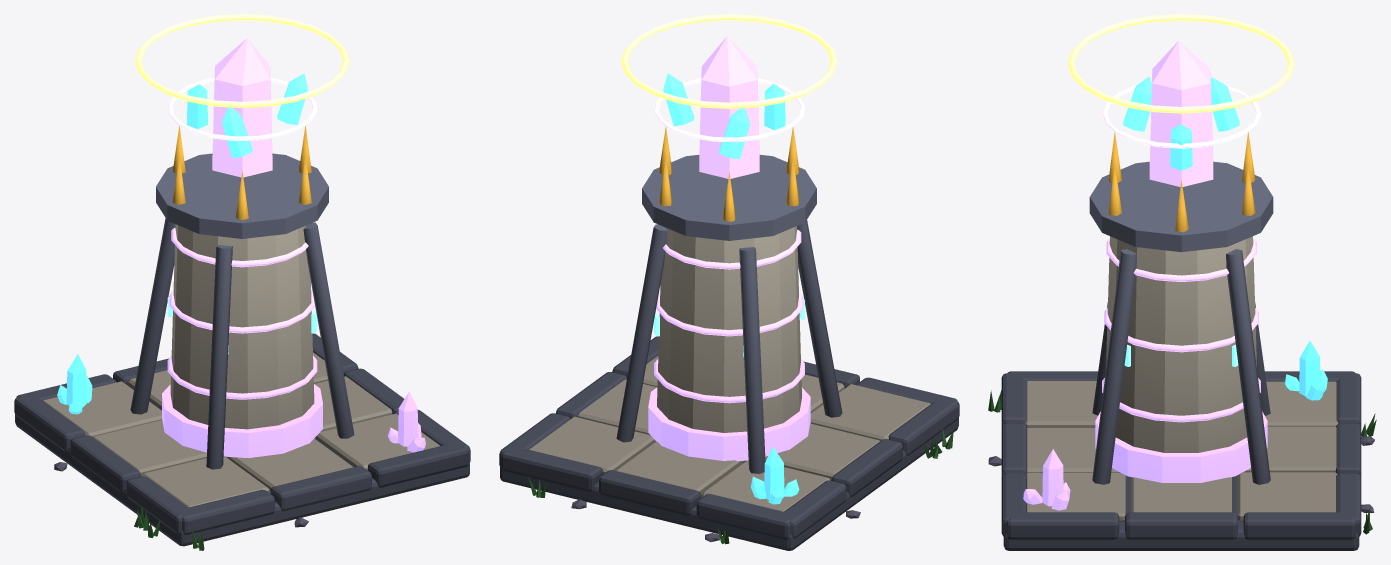
Rendered from crystal_tower.glb.
The picture shows the model from 3 angles, left to right: view 1: azimuth 30°, elevation 25°; view 2: azimuth 150°, elevation 25°; view 3: azimuth 270°, elevation 25°; orthographic projection. The views are drawn at different scales.
Parts seen in each view (by area): view 1: t0_stone_dark, t0_marble, t0_crystal_violet, turret_t0_spinY40_bob5_crystal_violet, t3_glow_gold, turret_t0_spinY40_bob5_crystal, t0_gold, t1_crystal_violet, t2_crystal, turret_t0_spinY40_bob5_glow_violet; view 2: t0_stone_dark, t0_marble, t0_crystal_violet, turret_t0_spinY40_bob5_crystal_violet, t3_glow_gold, turret_t0_spinY40_bob5_crystal, t0_gold, t2_crystal, turret_t0_spinY40_bob5_glow_violet, t0_moss; view 3: t0_stone_dark, t0_marble, t0_crystal_violet, turret_t0_spinY40_bob5_crystal_violet, t3_glow_gold, turret_t0_spinY40_bob5_crystal, t0_gold, t1_crystal_violet, t2_crystal, turret_t0_spinY40_bob5_glow_violet, t0_moss.
Part boxes in pixels (x1,y1,x2,y2): t0_stone_dark: [14, 153, 470, 546]; t0_marble: [43, 224, 439, 507]; t0_crystal_violet: [162, 227, 322, 457]; turret_t0_spinY40_bob5_crystal_violet: [212, 38, 272, 177]; t3_glow_gold: [135, 14, 349, 107]; turret_t0_spinY40_bob5_crystal: [186, 73, 307, 157]; t0_gold: [172, 125, 311, 220]; t1_crystal_violet: [387, 391, 425, 452]; t2_crystal: [57, 354, 92, 414]; turret_t0_spinY40_bob5_glow_violet: [167, 77, 317, 140]; t0_stone_dark: [499, 154, 959, 550]; t0_marble: [529, 226, 930, 511]; t0_crystal_violet: [648, 229, 810, 461]; turret_t0_spinY40_bob5_crystal_violet: [699, 36, 759, 178]; t3_glow_gold: [621, 14, 837, 108]; turret_t0_spinY40_bob5_crystal: [663, 73, 785, 159]; t0_gold: [659, 126, 799, 221]; t2_crystal: [751, 447, 799, 504]; turret_t0_spinY40_bob5_glow_violet: [654, 78, 804, 142]; t0_moss: [528, 429, 953, 544]; t0_stone_dark: [1001, 161, 1361, 550]; t0_marble: [1024, 236, 1338, 521]; t0_crystal_violet: [1095, 238, 1267, 482]; turret_t0_spinY40_bob5_crystal_violet: [1149, 41, 1213, 186]; t3_glow_gold: [1068, 14, 1294, 113]; turret_t0_spinY40_bob5_crystal: [1123, 76, 1239, 170]; t0_gold: [1109, 132, 1255, 232]; t1_crystal_violet: [1023, 449, 1070, 510]; t2_crystal: [1285, 340, 1327, 400]; turret_t0_spinY40_bob5_glow_violet: [1101, 81, 1261, 148]; t0_moss: [988, 390, 1376, 534].
Bounding box in the file's own units: 2.03 × 2.66 × 2.12.
